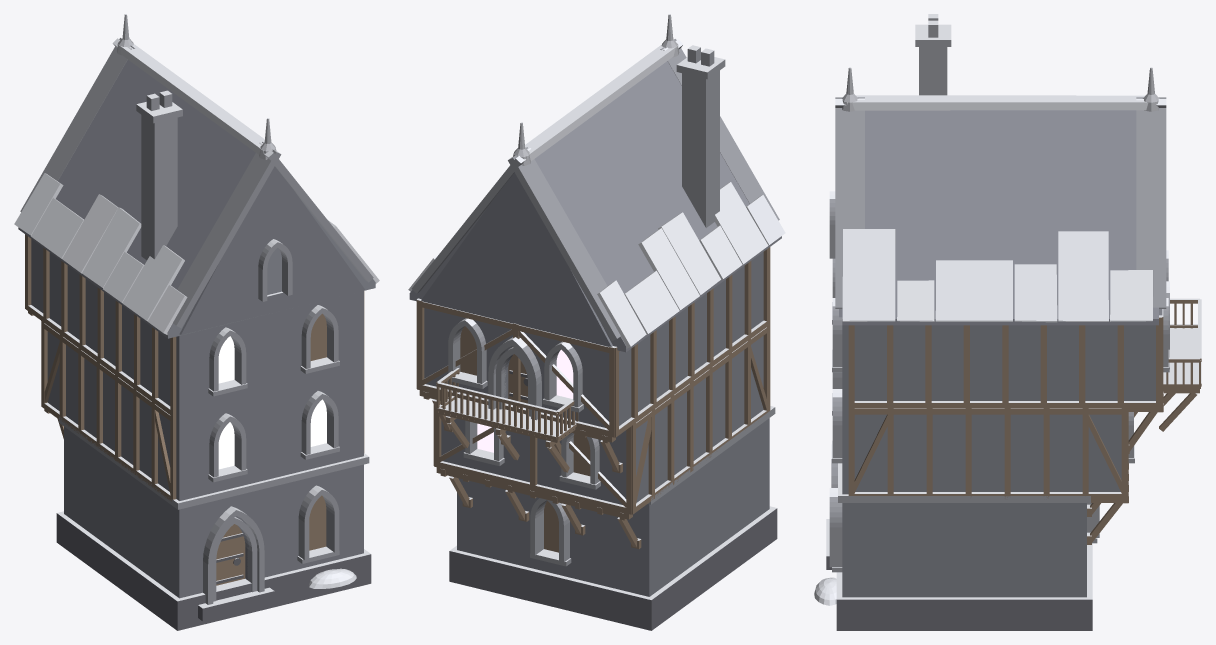
The model's file is AR_Casa_Debrucada_A.fbx.
3 renders of one model, left to right at view 1: azimuth 30°, elevation 25°; view 2: azimuth 150°, elevation 25°; view 3: azimuth 270°, elevation 25°, orthographic. The views are drawn at different scales.
Parts seen in each view (by area): view 1: AR_Casa_Debrucada_A; view 2: AR_Casa_Debrucada_A; view 3: AR_Casa_Debrucada_A.
Boxes of the visible parts, <box> form: AR_Casa_Debrucada_A: <box>14,14,379,630</box>; AR_Casa_Debrucada_A: <box>408,14,785,630</box>; AR_Casa_Debrucada_A: <box>814,14,1201,630</box>.
Bounding box in the file's own units: 8.46 × 18.48 × 12.35.
